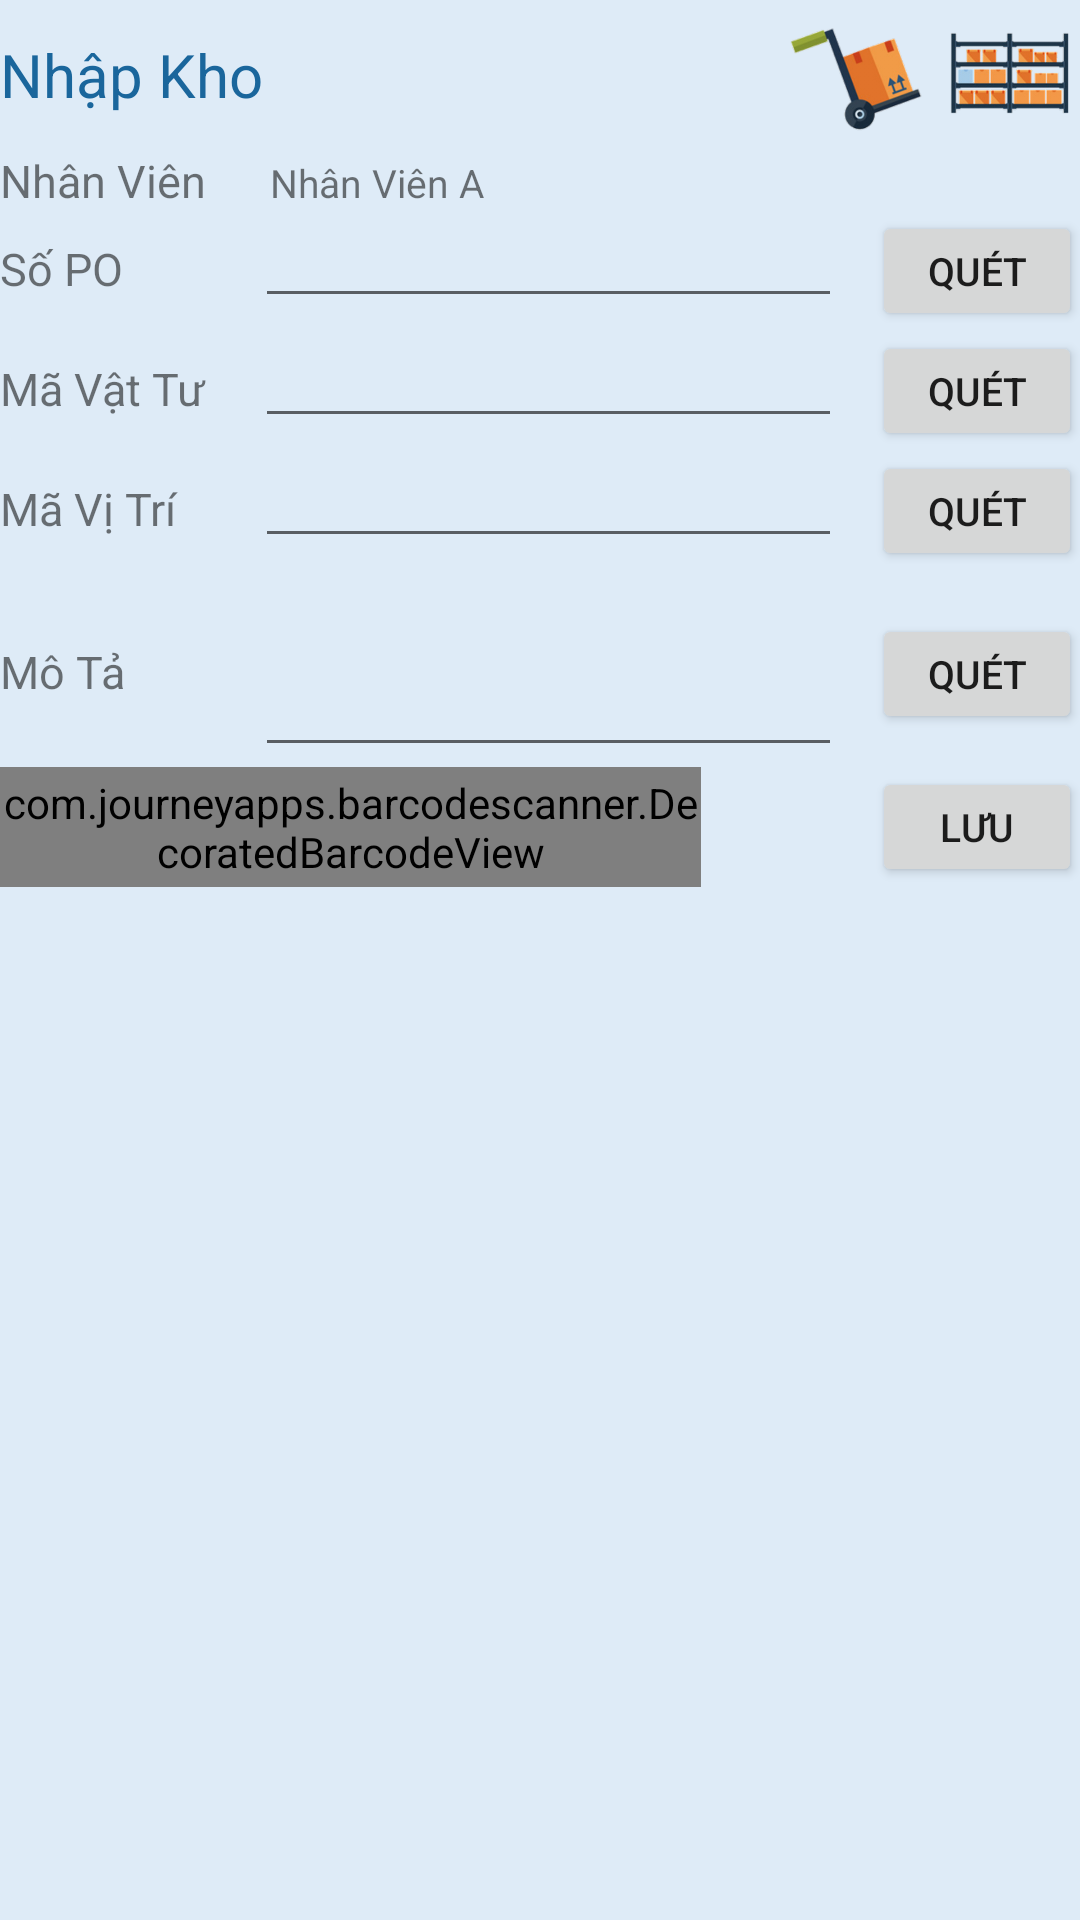

Named icons in this screenshot (1080×1920) and their centers, (x,y):
cart: (856,79)
shelf: (1010,73)
